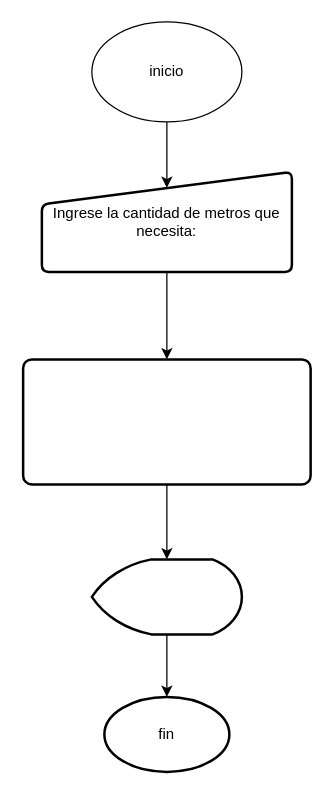
Image size: 333x795. Some labels were removed from this diagram. Each missing label, with the box of its shape:
imprimir pulgadas: (90, 558, 242, 635)
pulgadas = metros ingresados / 0.0254: (21, 358, 311, 485)
